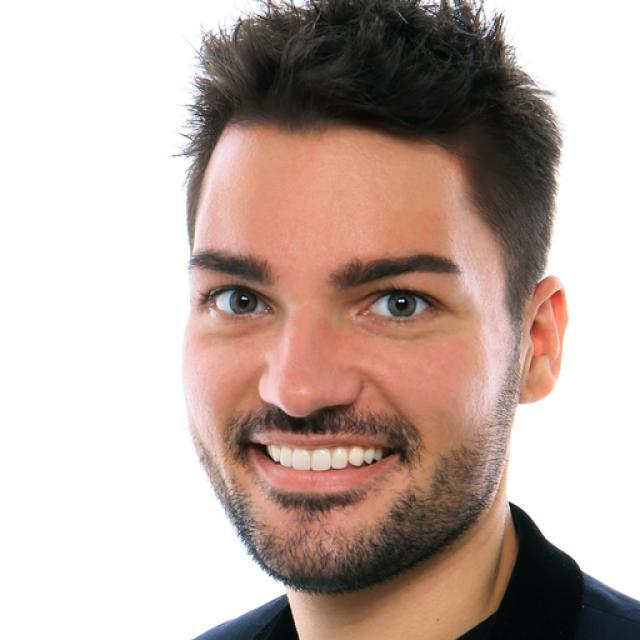happy: (182, 115, 522, 589)
